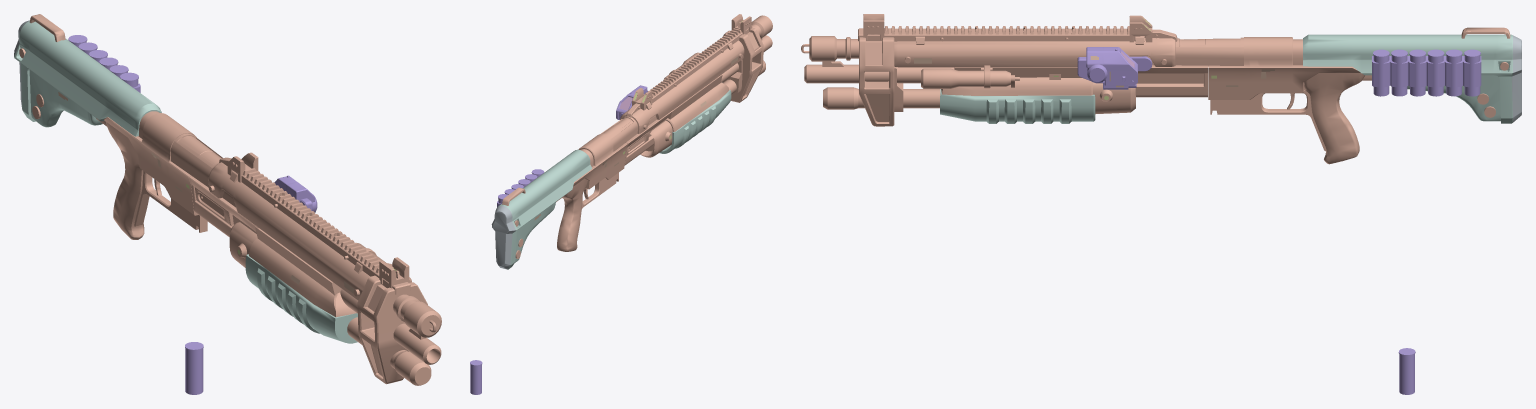
3 views of the same model, side by side, from view 1: azimuth 30°, elevation 25°; view 2: azimuth 150°, elevation 25°; view 3: azimuth 270°, elevation 25° (orthographic). The views are drawn at different scales.
Visible parts, largest first — view 1: v_m45s_shotgun_body; view 2: v_m45s_shotgun_body; view 3: v_m45s_shotgun_body.
Part boxes in pixels (left/top/right/bottom): v_m45s_shotgun_body: left=14, top=14, right=441, bottom=394; v_m45s_shotgun_body: left=470, top=14, right=772, bottom=394; v_m45s_shotgun_body: left=801, top=14, right=1521, bottom=394.
Bounding box in the file's own units: 598 × 1562 × 3094.
